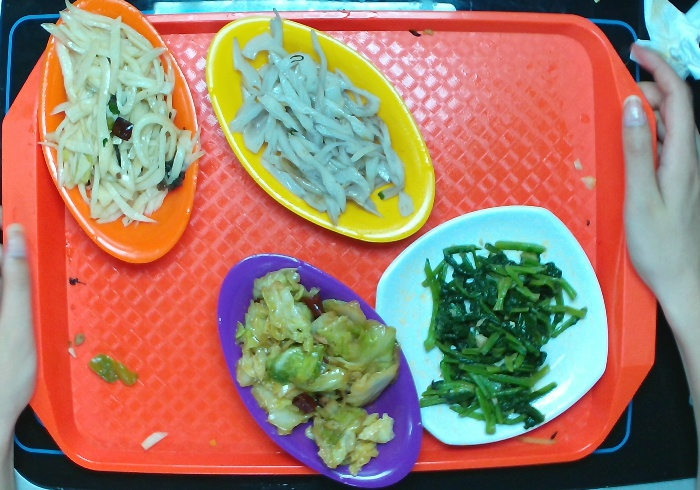RJxy-Fen_Hong_Tuo_Yuan: (205, 251, 427, 486)
RJxy-Huang_Se_Tuo_Yuan: (199, 14, 449, 246)
RJxy-Ju_Huang_Tuo_Yuan: (37, 3, 208, 270)
RJxy-Si_Fang_Die: (370, 199, 612, 447)
